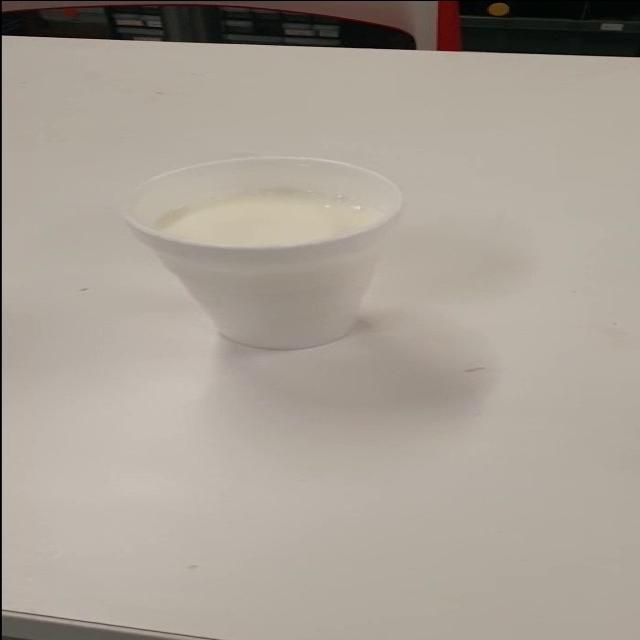Milk: (104, 138, 446, 370)
